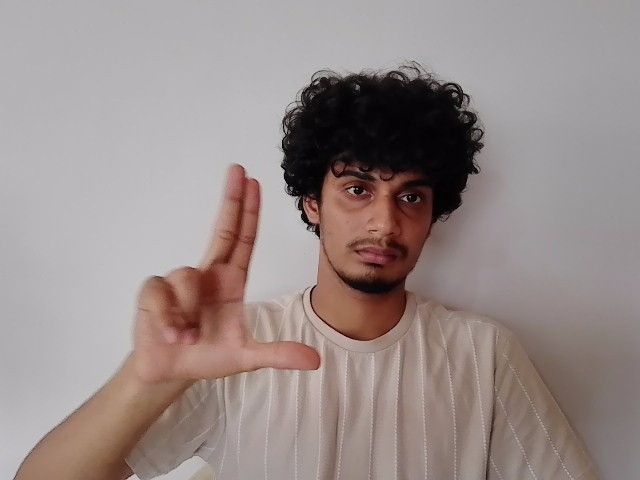no: (131, 159, 323, 379)
